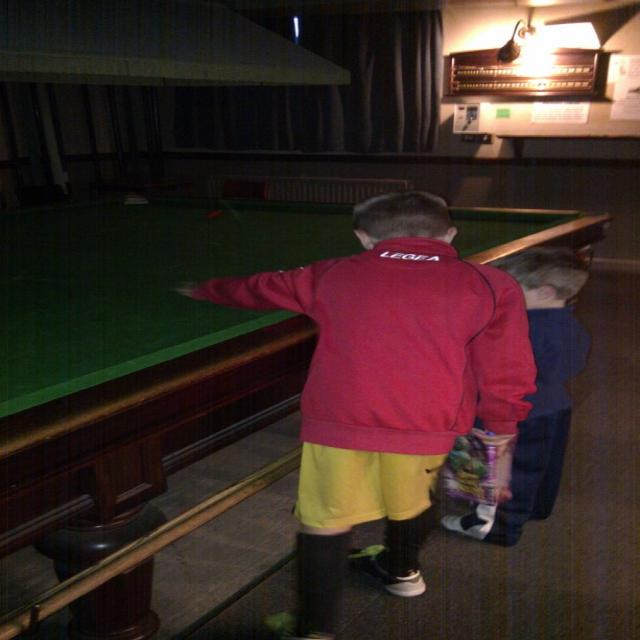Billiard table: (0, 192, 619, 640)
